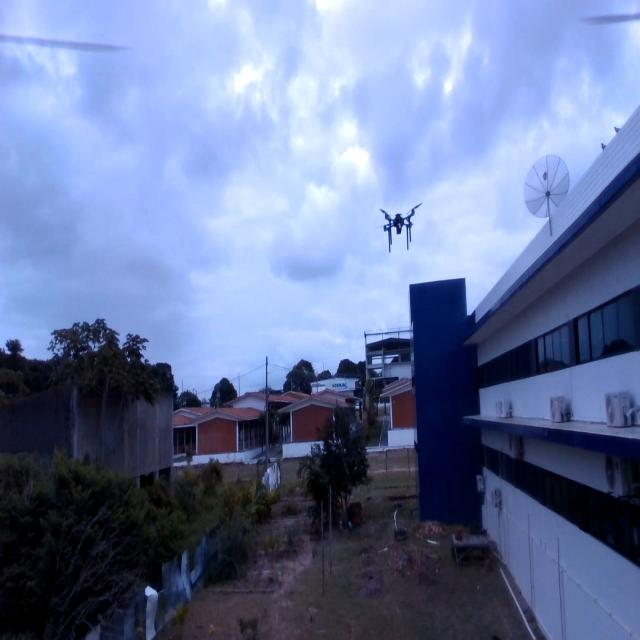-uav-: (370, 190, 431, 262)
